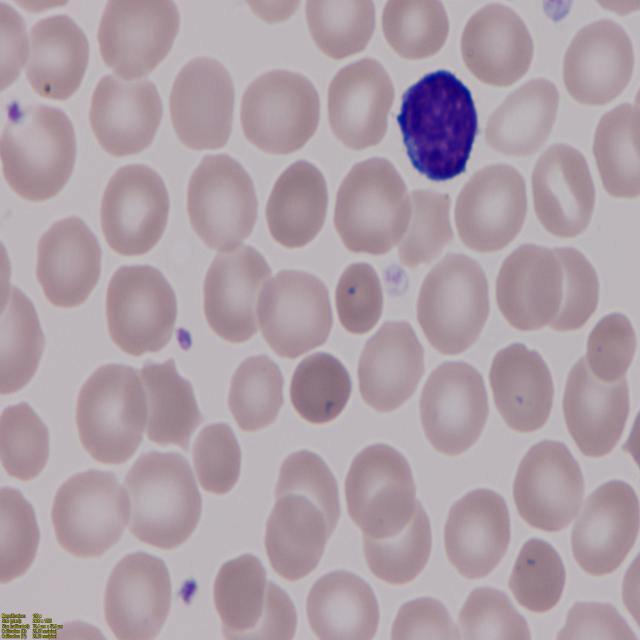Platelets: (174, 574, 200, 612)
RBC: (331, 152, 413, 258), (119, 452, 205, 553), (416, 252, 494, 362), (2, 100, 84, 204), (96, 160, 176, 264), (356, 484, 438, 584), (512, 432, 590, 536), (74, 360, 150, 466), (560, 357, 636, 462), (182, 152, 260, 254), (200, 244, 277, 347), (237, 68, 325, 158), (48, 464, 130, 560), (102, 258, 180, 358), (417, 358, 494, 458), (454, 160, 534, 256), (341, 441, 419, 538), (569, 475, 640, 581), (166, 54, 242, 153), (320, 56, 396, 154), (561, 13, 638, 109), (256, 266, 336, 358), (352, 316, 424, 418), (96, 0, 182, 84), (32, 212, 104, 312), (442, 483, 514, 583), (460, 0, 540, 90), (86, 70, 166, 160), (488, 340, 562, 434), (531, 144, 601, 242), (484, 73, 562, 160), (100, 549, 174, 640), (22, 12, 94, 105), (262, 158, 333, 252), (494, 240, 566, 332), (262, 492, 331, 582), (302, 570, 382, 640), (300, 1, 380, 66), (0, 284, 46, 396), (590, 99, 640, 202), (509, 533, 567, 620), (228, 350, 288, 432), (379, 0, 452, 65), (330, 258, 388, 339), (0, 398, 55, 482), (0, 479, 42, 586), (457, 583, 534, 640), (212, 552, 266, 632), (189, 422, 243, 497), (584, 314, 638, 382), (386, 596, 466, 640), (0, 0, 34, 97), (558, 599, 638, 640)
Spherocyte: (287, 346, 359, 425)
WBC: (396, 60, 484, 190)
